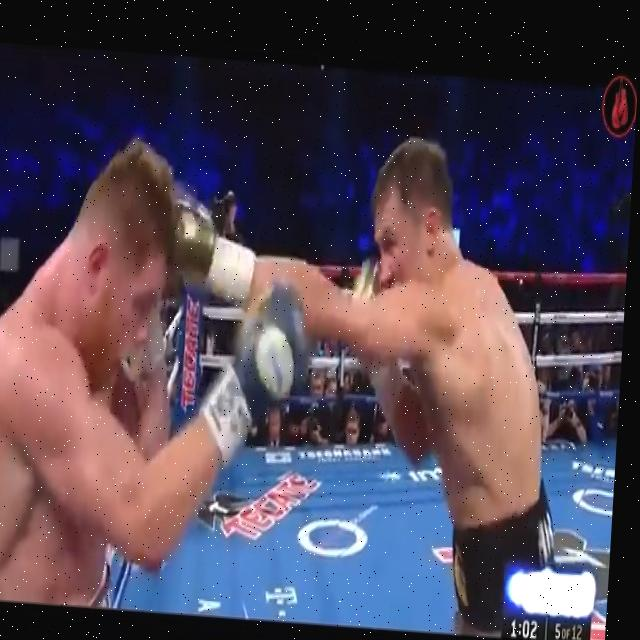Jab: (123, 143, 533, 494)
